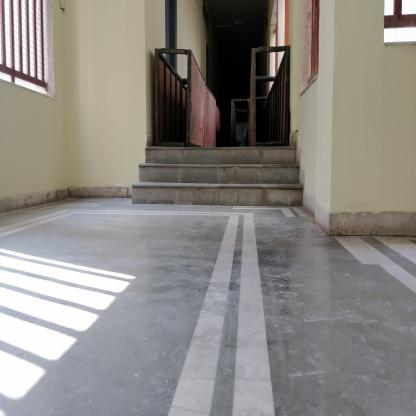stairs: (147, 144, 296, 205)
